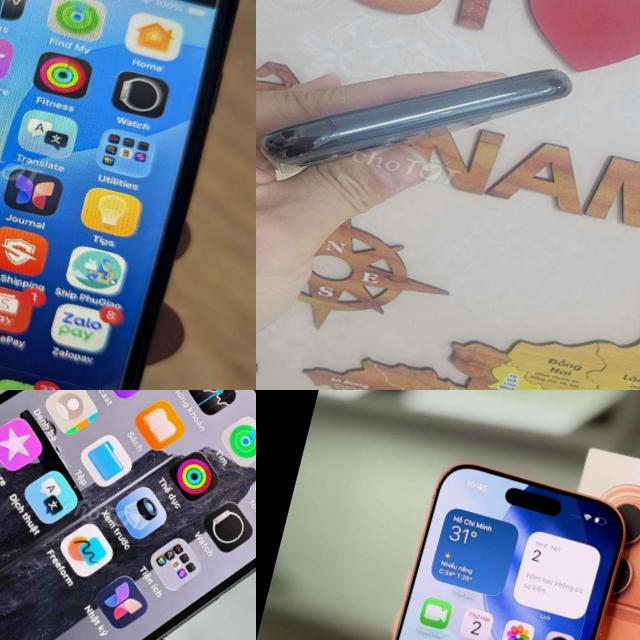gen_11: (256, 0, 599, 237)
gen_15: (0, 390, 256, 640)
gen_17: (329, 449, 630, 640)
gen_7_8: (0, 0, 256, 390)
